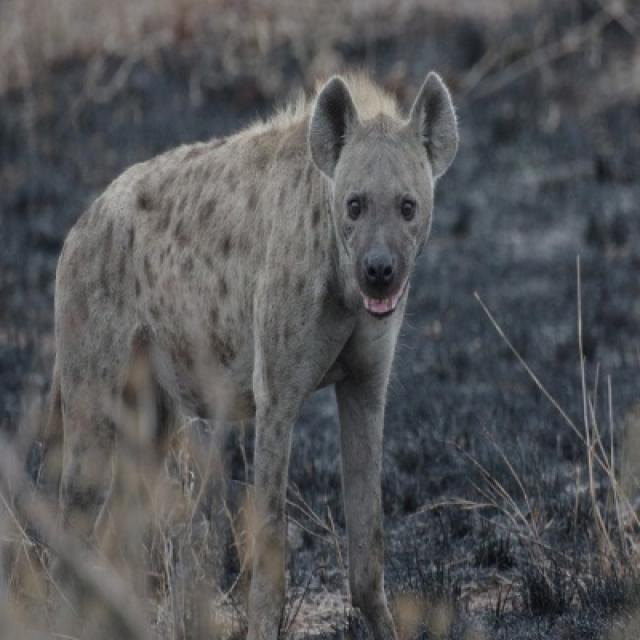hyena: (24, 70, 461, 638)
